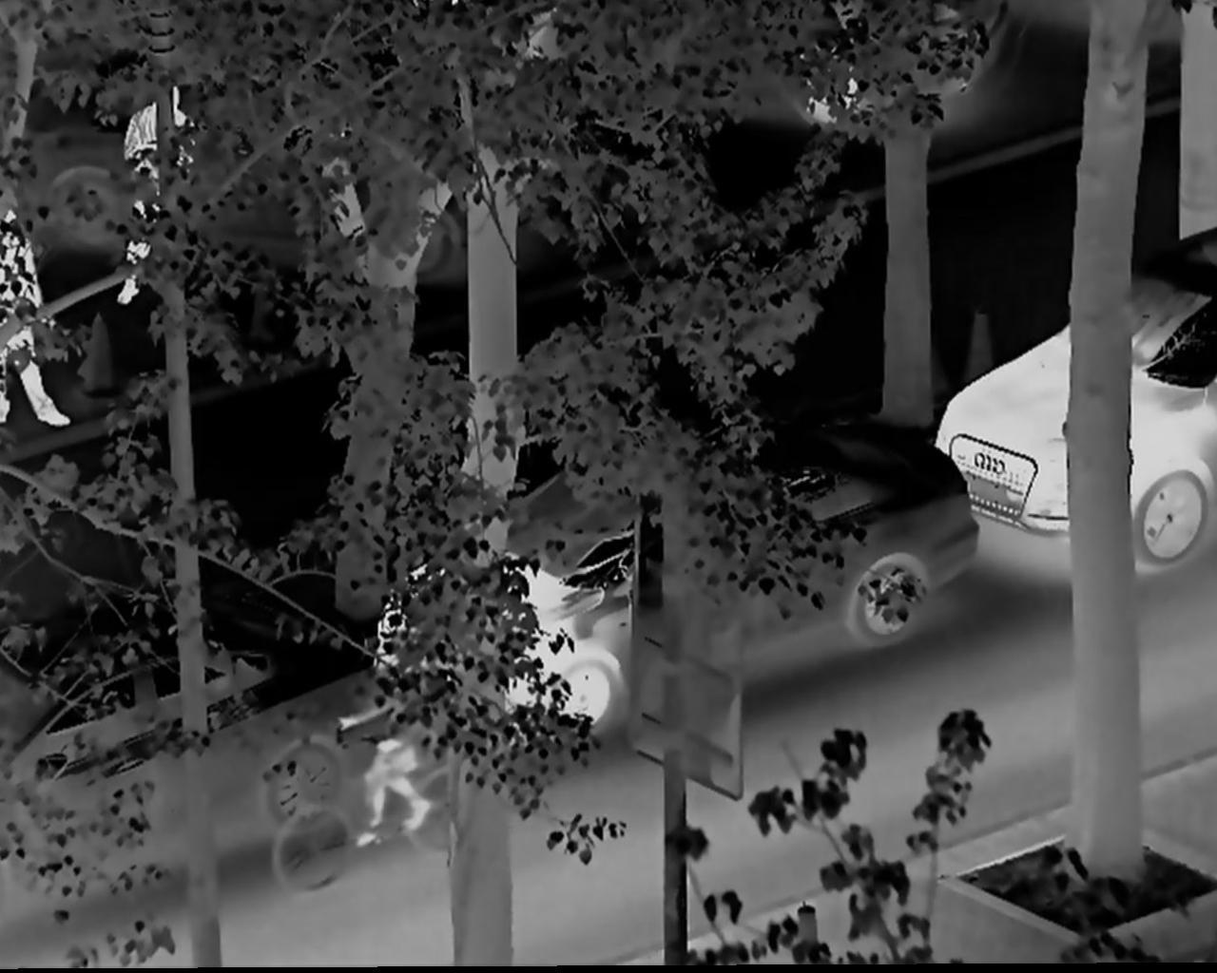person: (119, 71, 210, 314), (337, 684, 447, 838)
